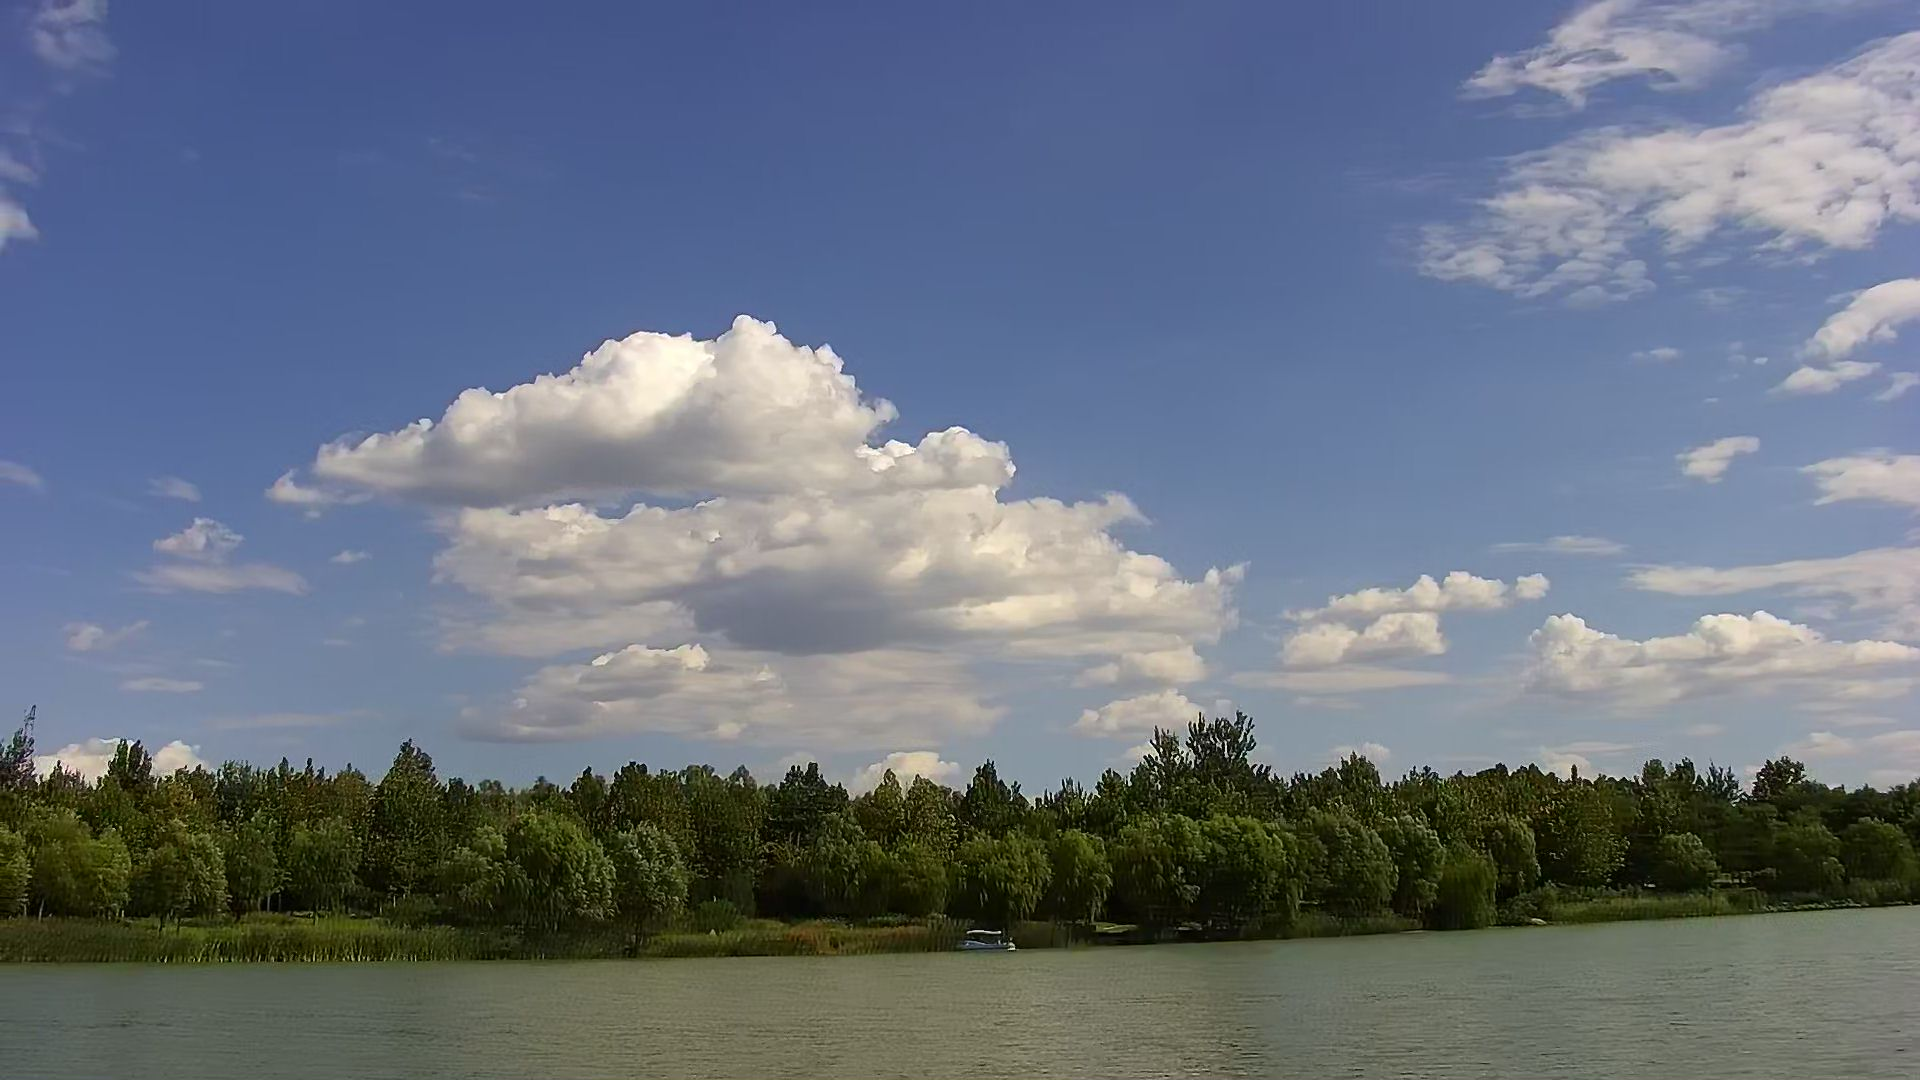boat: (953, 924, 1021, 955)
